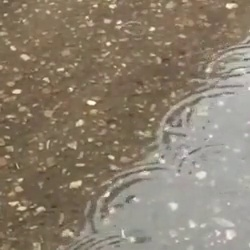drop: (158, 87, 240, 157), (88, 166, 173, 230), (178, 144, 226, 188), (205, 46, 250, 89), (64, 234, 129, 250), (121, 21, 146, 38)
